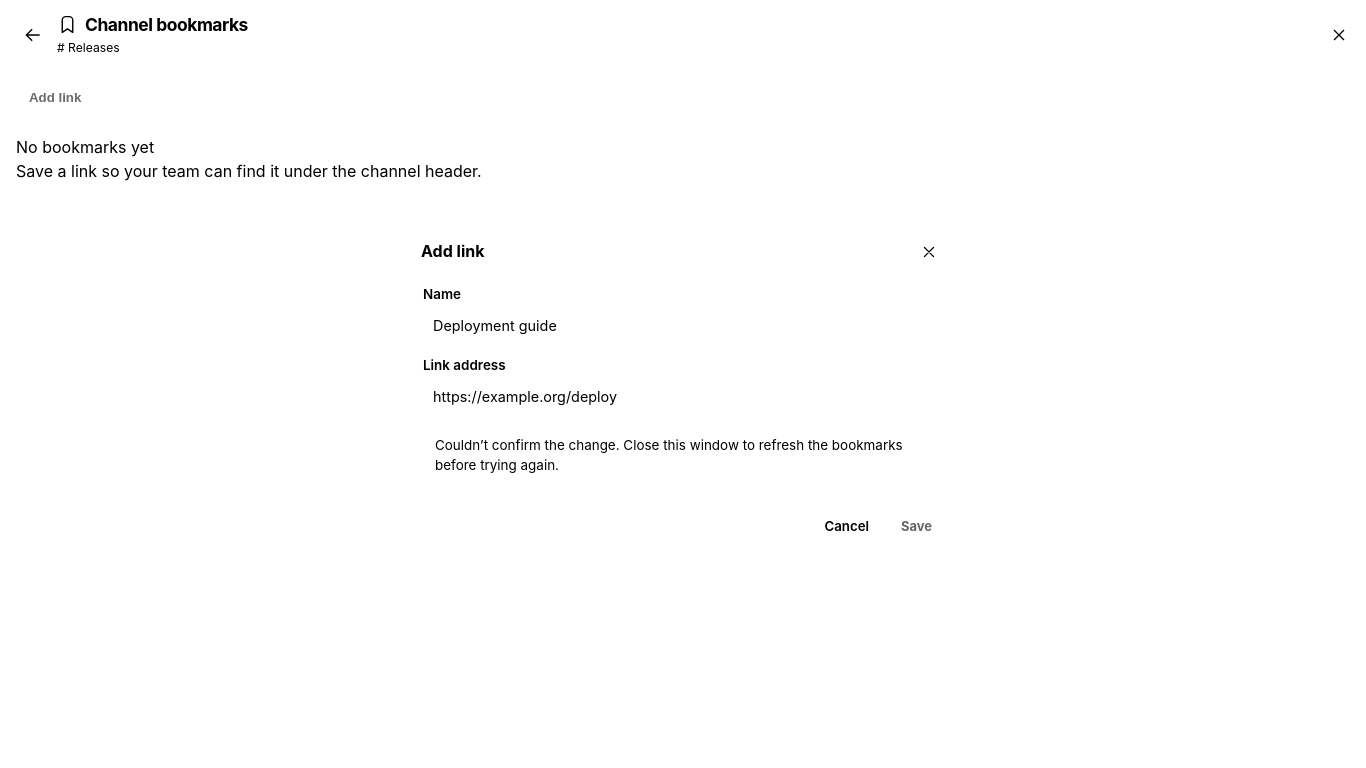
Test: keeps the draft during an outage and only reads on reconnect after an uncertain write
This screenshot has width=1366, height=768.
Earlier steps of the test are not shown.
Later steps or results of the test are not shown.
Check: the button "Save" is disabled, box [890, 511, 943, 541]
Check: the message is shown, box [423, 428, 943, 484]
Click the button named "Close": (929, 252) [913, 236, 945, 268]
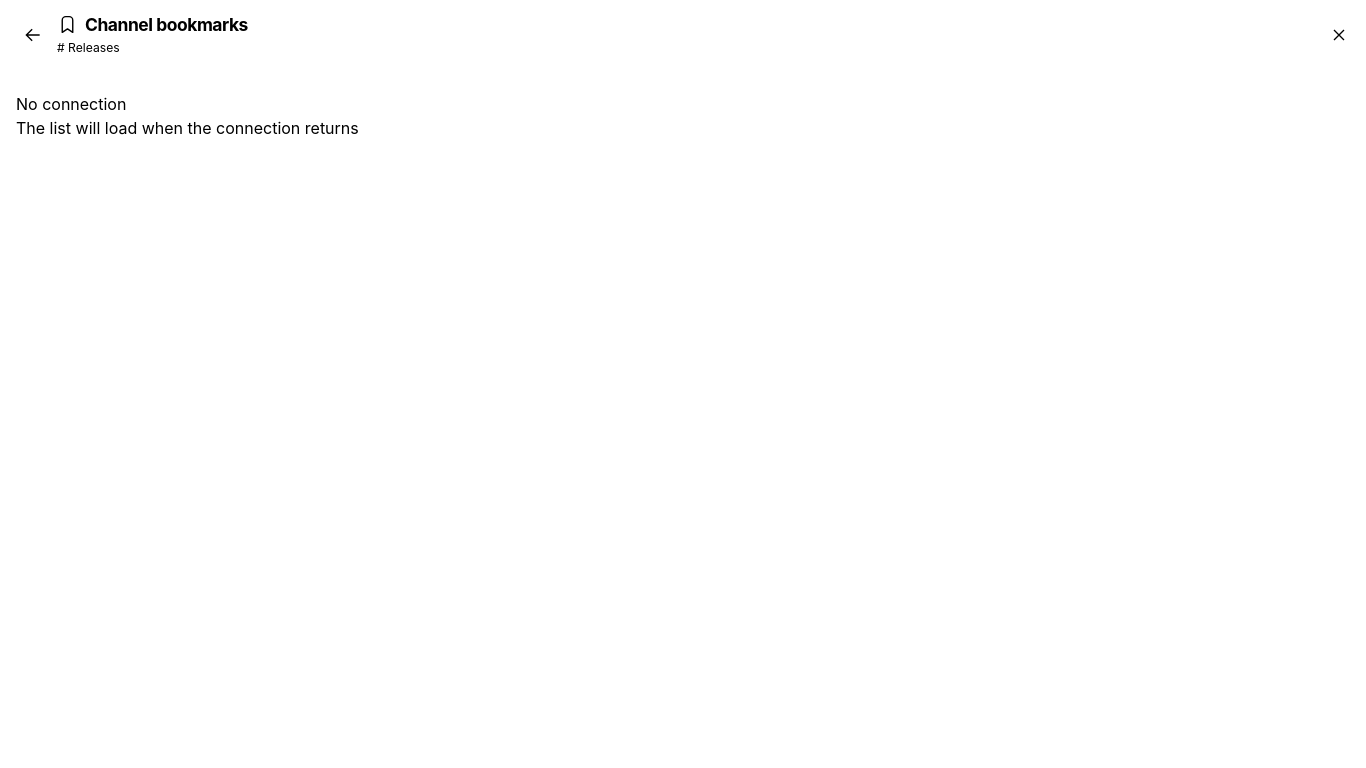
Check: the text "The list will load when the connection returns" is shown, box [16, 118, 359, 138]
